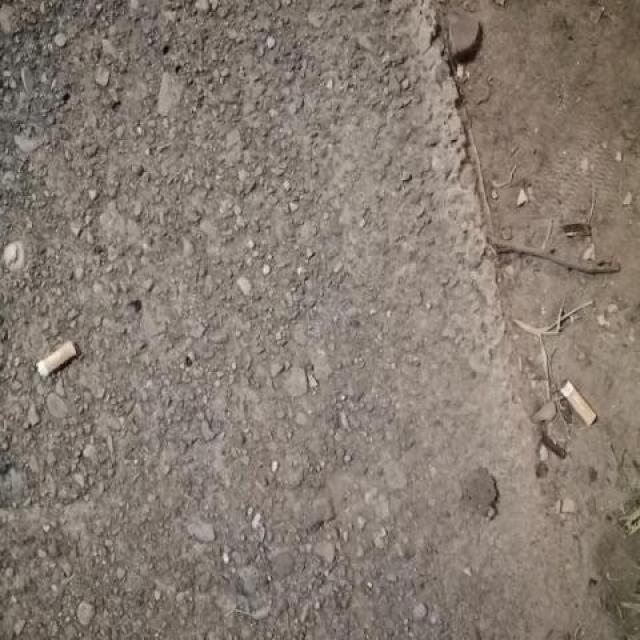non-organic waste: (555, 375, 601, 432), (33, 335, 78, 386)
